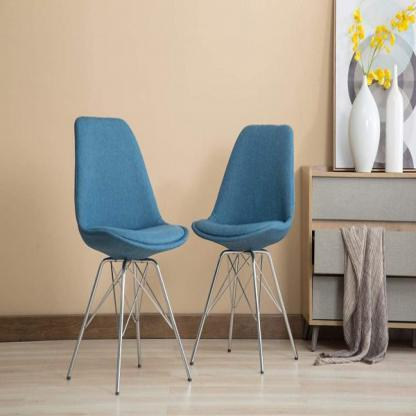chair: (53, 113, 190, 393), (192, 112, 307, 382)
table: (303, 159, 416, 352)
